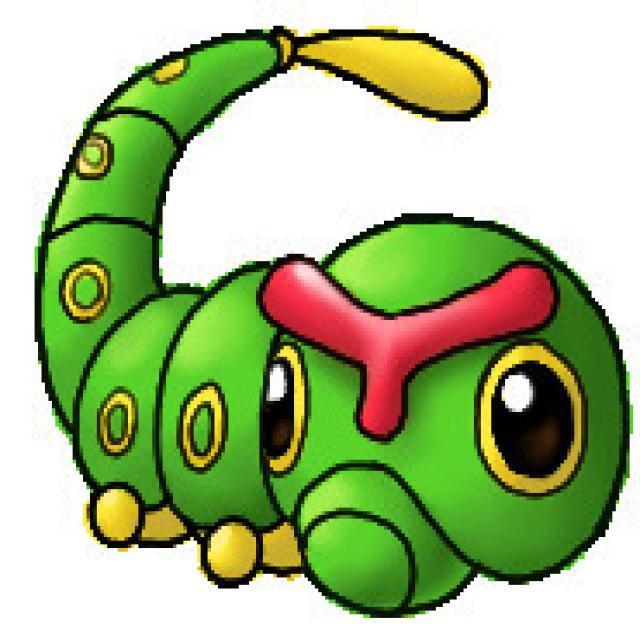Caterpie: (37, 177, 620, 609)
